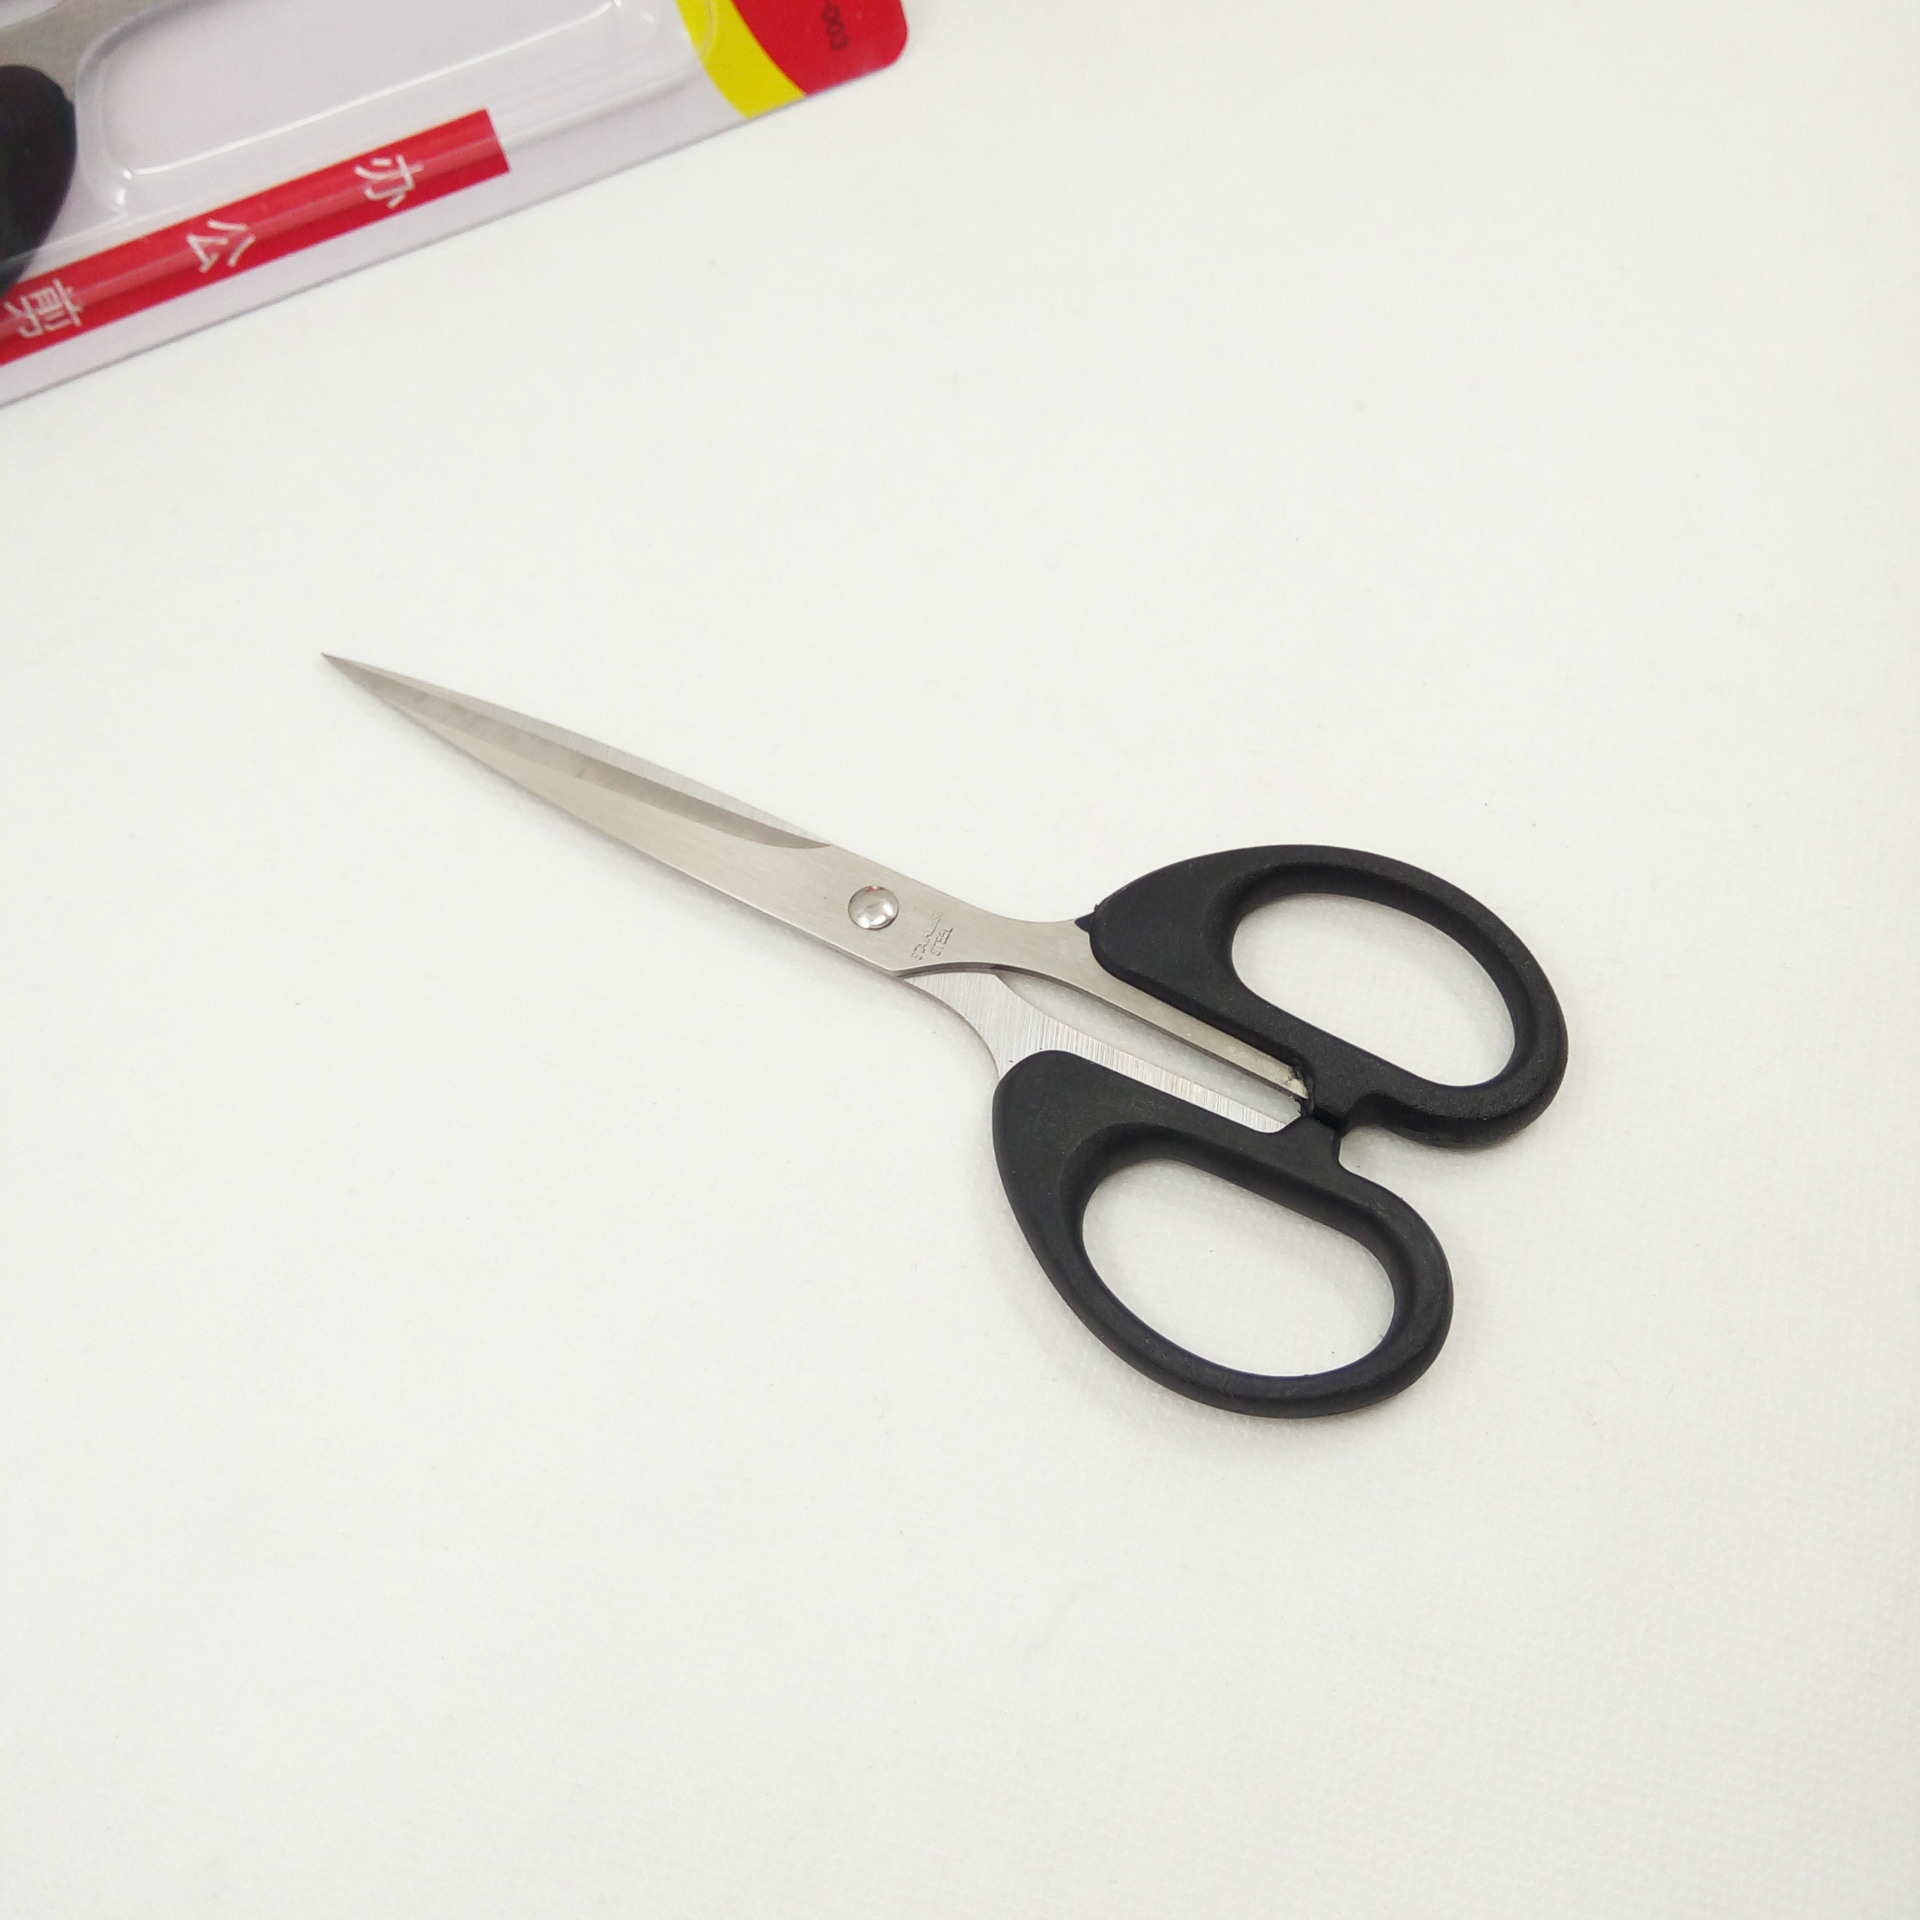scissors: (297, 598, 1602, 1433)
